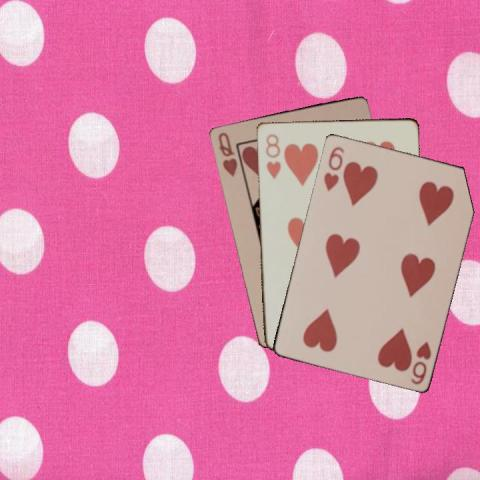6h: (407, 338, 433, 386), (321, 143, 345, 192)
8h: (262, 131, 282, 180)
Qh: (214, 128, 238, 178)
